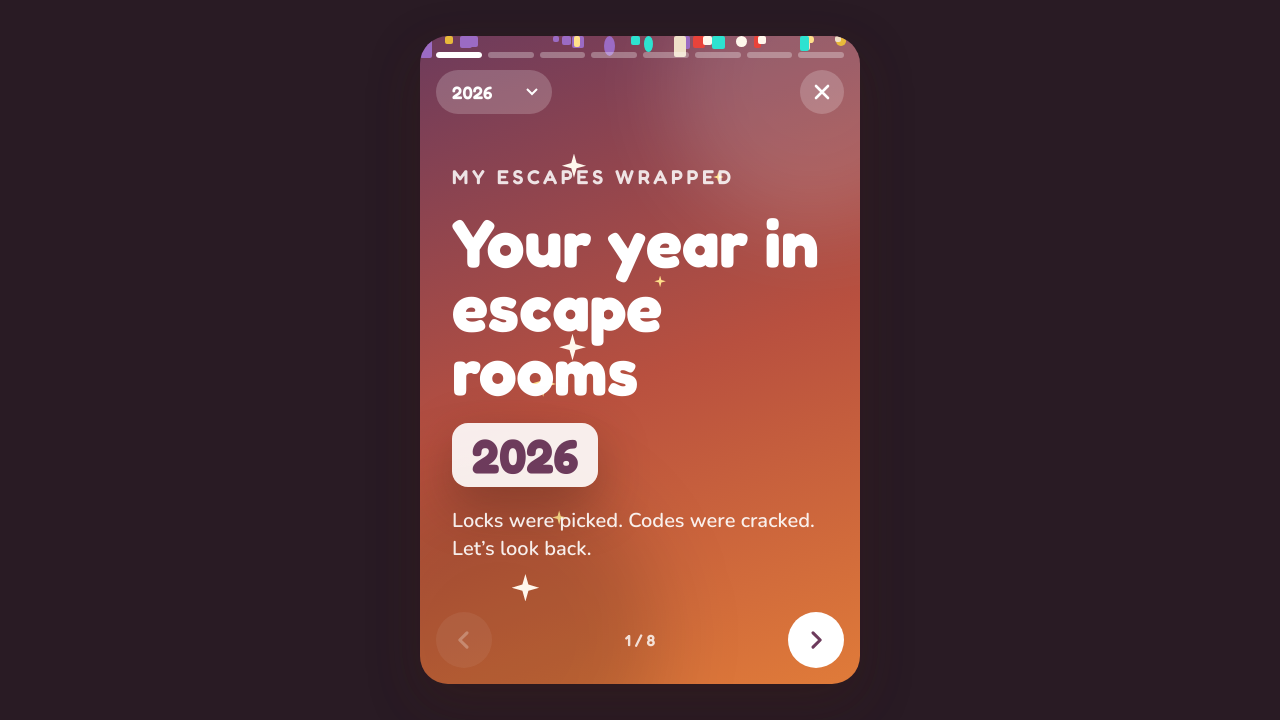
Test case: wrap overlay: teammate card › shows "Your #1 teammate: Mia, 3 rooms together, 67% escape rate"
Click the button with test id "wrap-next" at (816,640), box [788, 612, 844, 668]
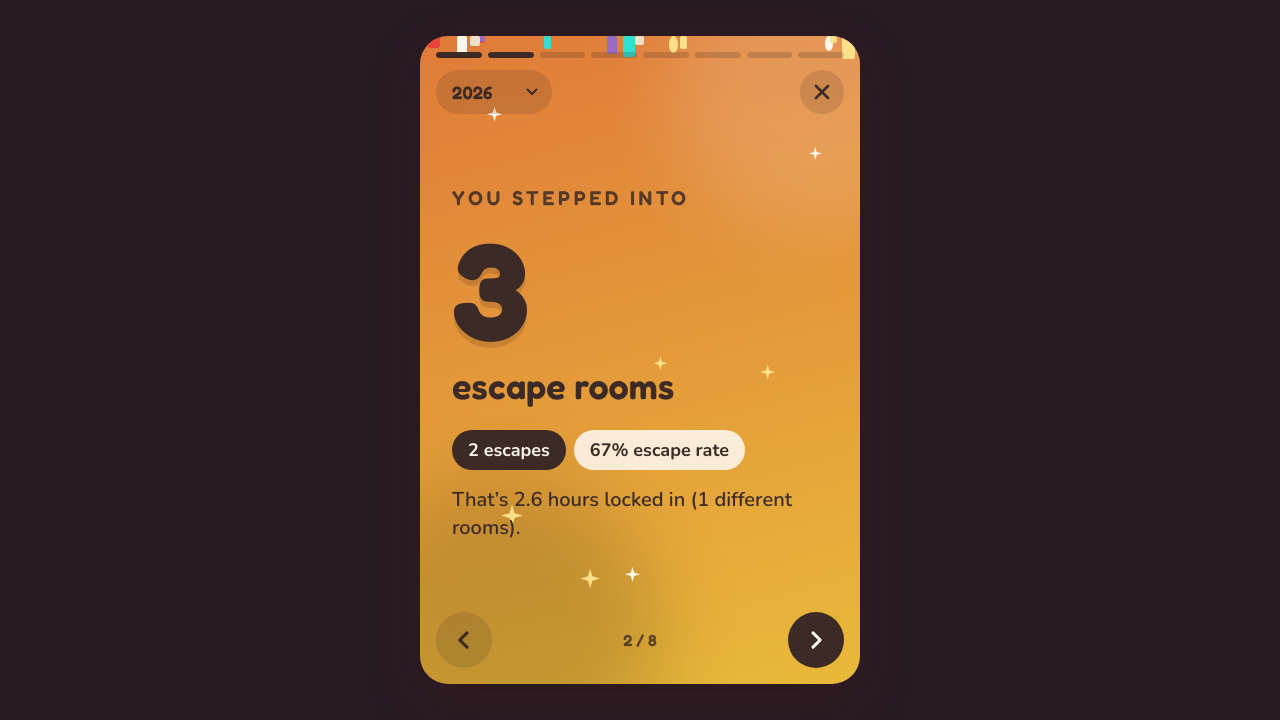
Click the button with test id "wrap-next" at (816,640), box [788, 612, 844, 668]
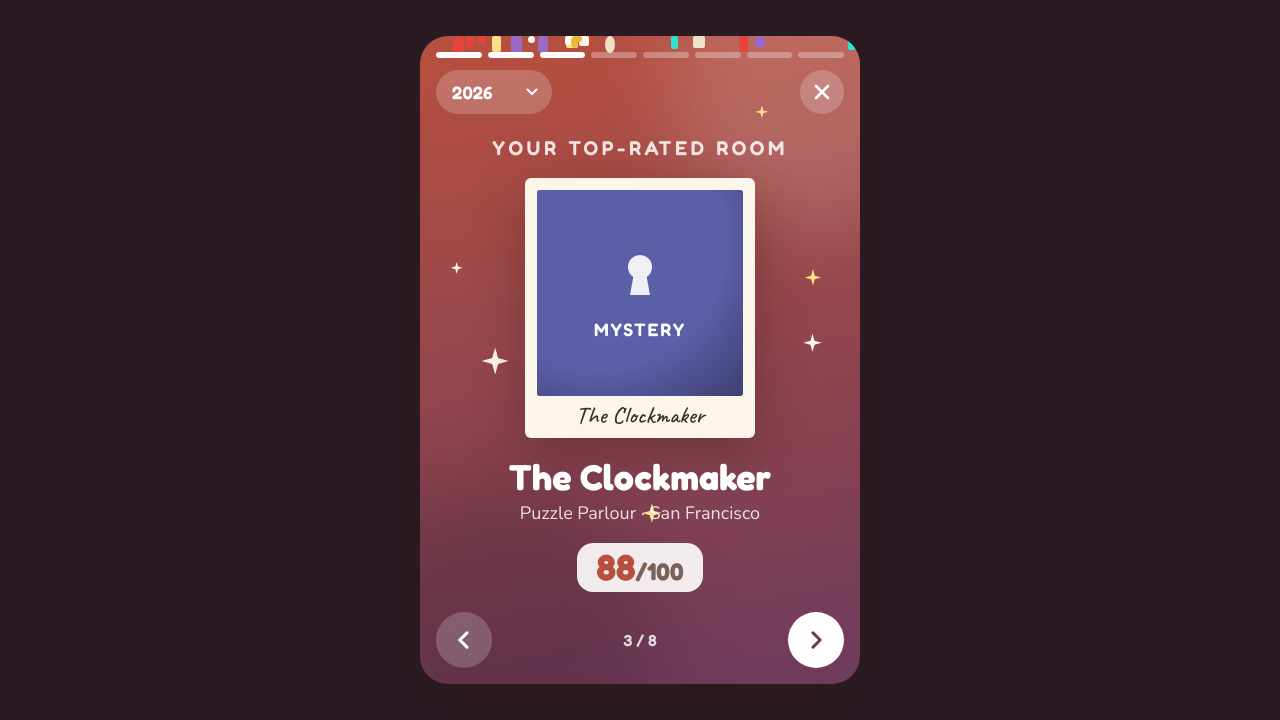
Click the button with test id "wrap-next" at (816,640), box [788, 612, 844, 668]
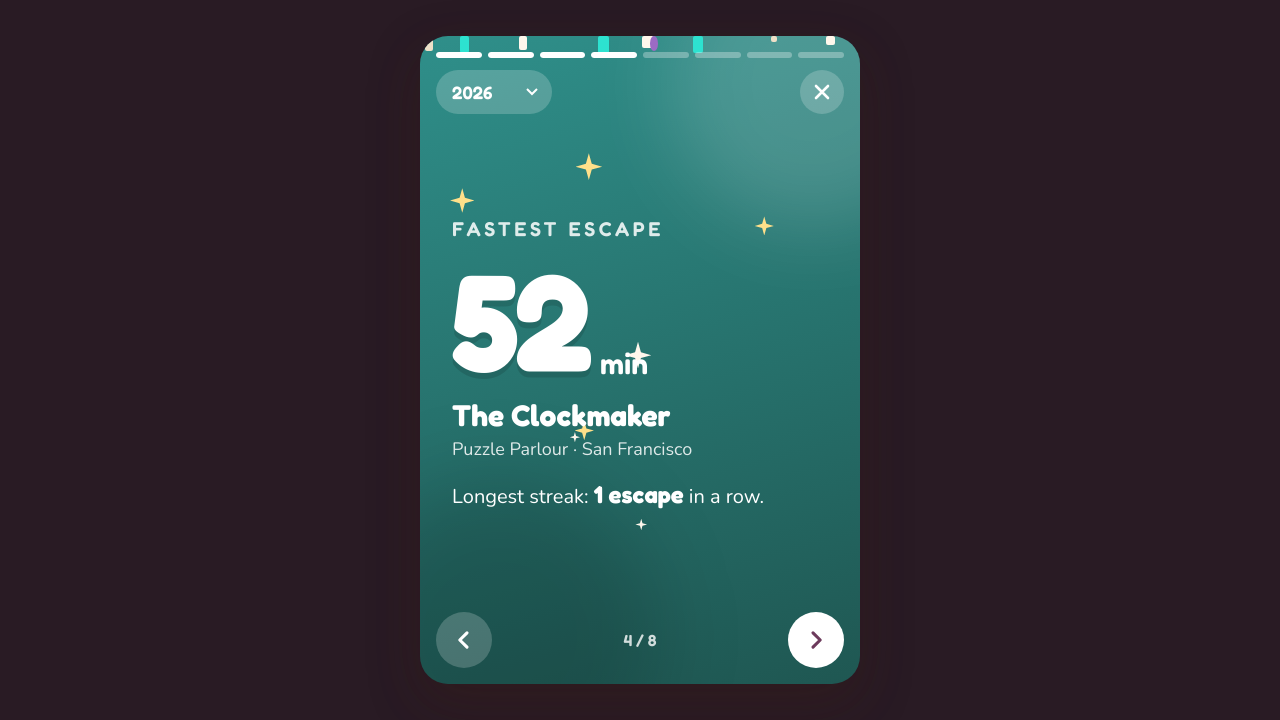
Click the button with test id "wrap-next" at (816,640), box [788, 612, 844, 668]
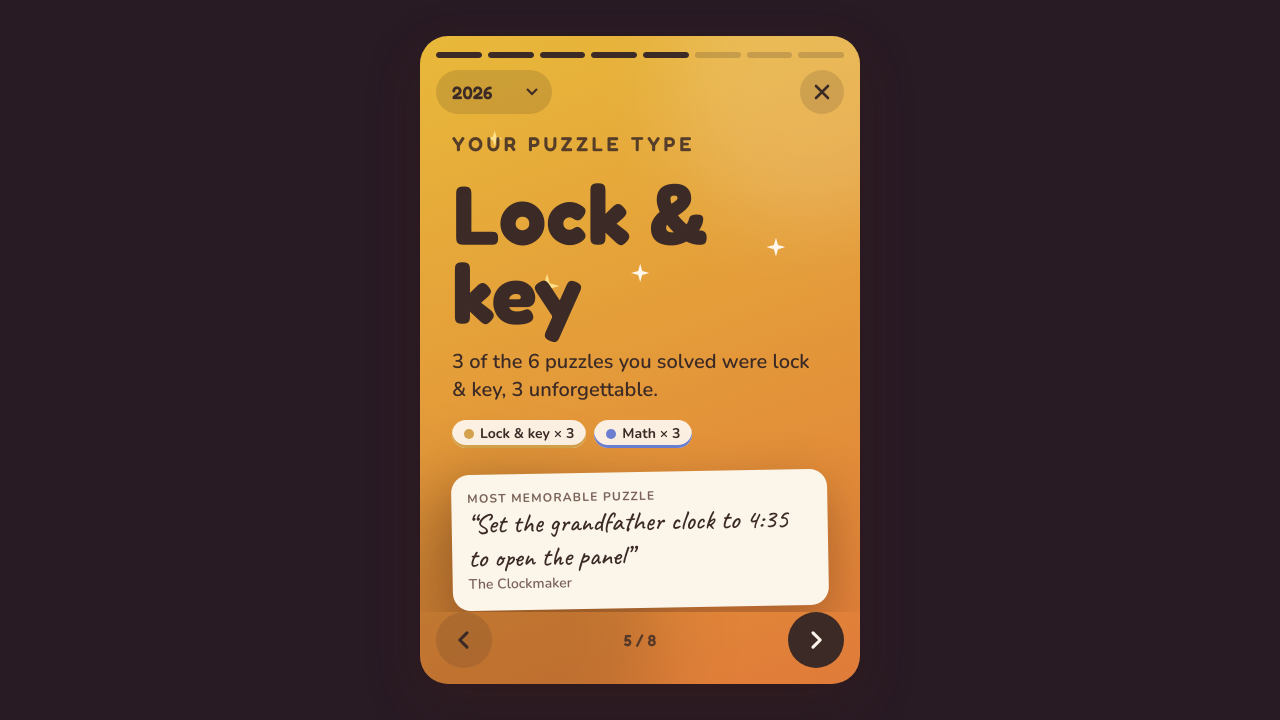
Click the button with test id "wrap-next" at (816,640), box [788, 612, 844, 668]
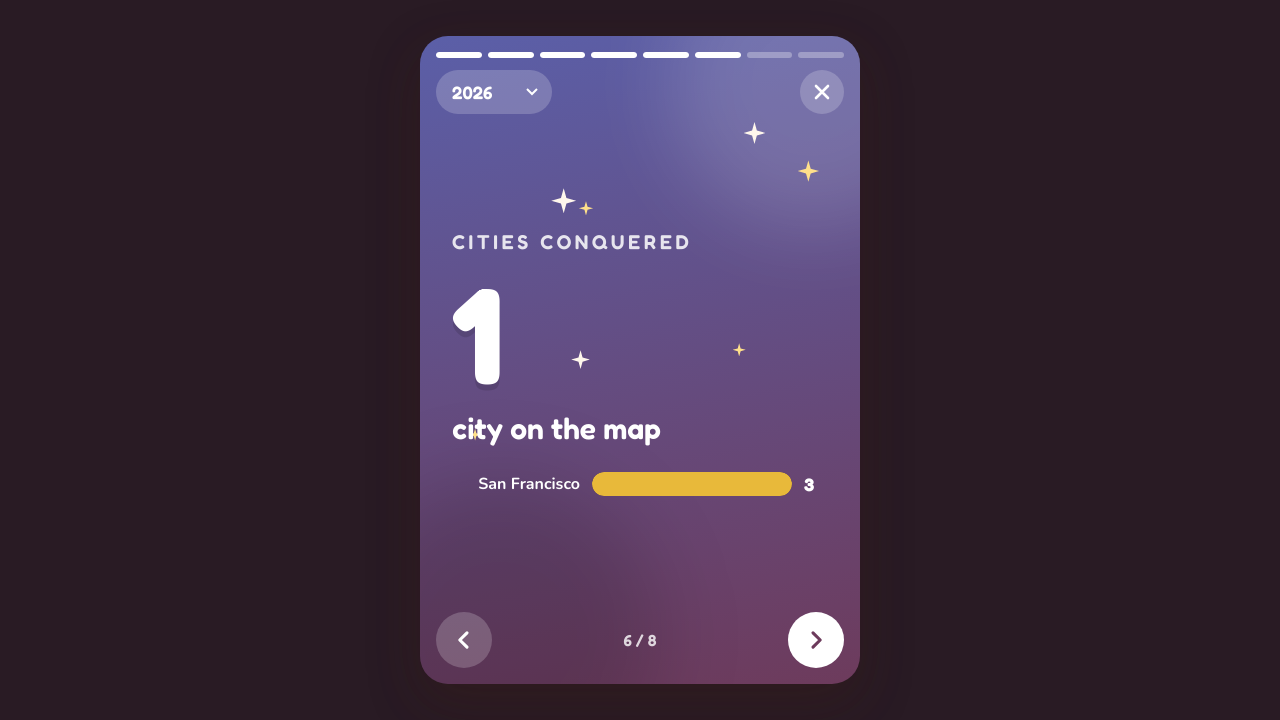
Click the button with test id "wrap-next" at (816,640), box [788, 612, 844, 668]
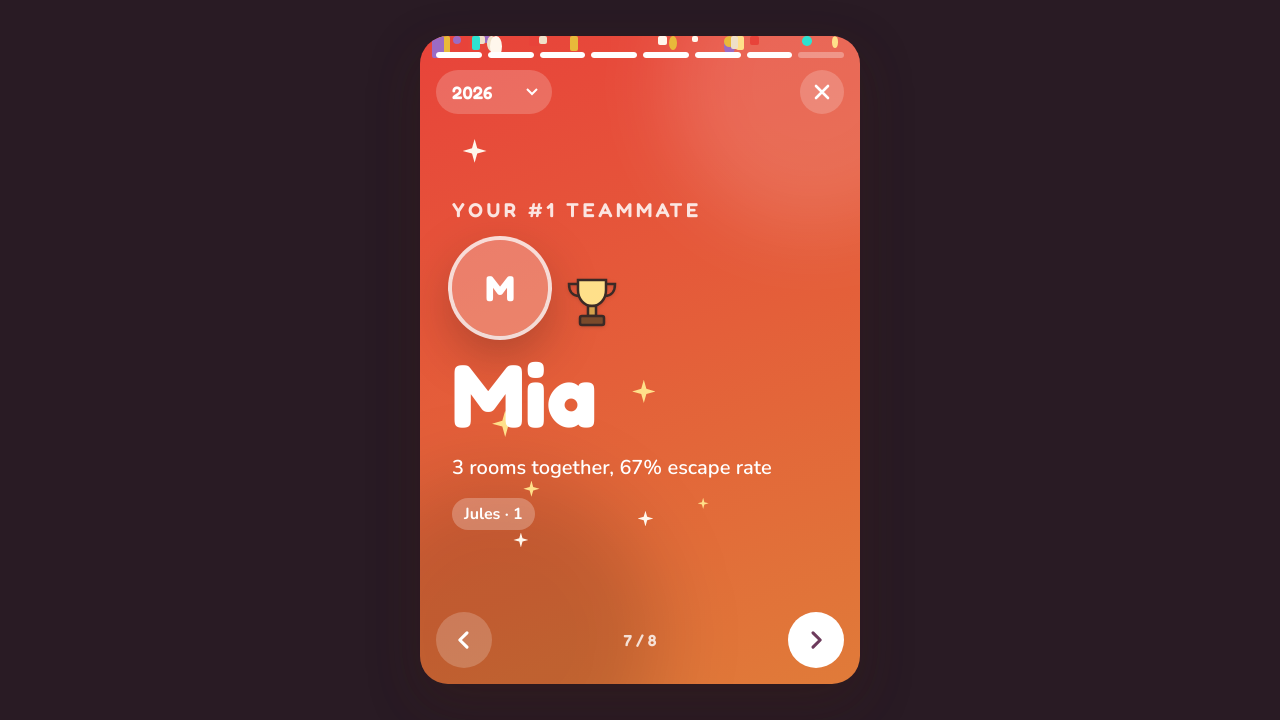
Expected: the text "Your #1 teammate" is shown, [452, 196, 702, 224]
Expected: the text "Mia" is shown, [452, 352, 597, 438]
Expected: the text with test id "wrap-teammate-line" reads "3 rooms together, 67% escape rate", [452, 454, 772, 482]
